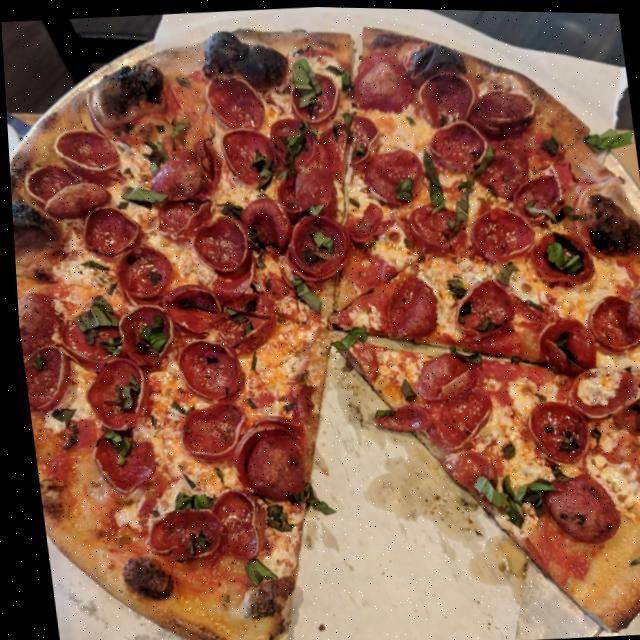basil: (459, 460, 558, 527), (62, 290, 119, 346), (521, 189, 585, 227), (274, 123, 311, 182), (92, 372, 141, 416), (287, 50, 323, 109), (438, 176, 473, 235), (416, 141, 444, 213), (126, 311, 167, 360), (97, 373, 142, 416), (89, 428, 136, 469), (293, 224, 338, 266), (578, 118, 635, 151), (91, 424, 130, 470), (457, 142, 503, 181), (279, 480, 326, 516), (280, 275, 322, 315), (117, 178, 174, 207), (165, 482, 212, 515), (539, 237, 582, 272), (232, 552, 273, 586), (47, 406, 77, 452), (137, 133, 168, 176), (324, 323, 371, 351), (482, 253, 518, 288), (380, 174, 420, 205), (173, 523, 208, 558), (244, 147, 271, 192), (255, 500, 289, 535), (219, 308, 254, 339), (443, 339, 481, 365), (463, 307, 497, 336), (213, 193, 245, 223), (534, 126, 564, 156), (91, 328, 122, 357), (437, 272, 468, 299), (166, 111, 193, 142), (238, 221, 263, 250), (392, 375, 414, 402), (24, 353, 45, 374), (371, 405, 393, 418)
pepperoni: (220, 410, 312, 508), (532, 462, 622, 546), (257, 105, 352, 175), (513, 387, 594, 466), (47, 290, 131, 366), (271, 206, 352, 284), (74, 353, 146, 436), (140, 499, 220, 567), (373, 266, 440, 347), (82, 426, 157, 498), (167, 335, 244, 405), (210, 118, 283, 190), (557, 360, 640, 423), (197, 68, 272, 136), (440, 273, 515, 340), (171, 394, 244, 462), (464, 201, 540, 266), (98, 236, 171, 303), (527, 307, 598, 375), (409, 56, 477, 126), (523, 223, 596, 288), (354, 141, 427, 206), (261, 161, 340, 221), (423, 380, 494, 446), (208, 282, 274, 349), (198, 485, 256, 561), (109, 296, 174, 363), (183, 213, 250, 277), (469, 75, 539, 136), (397, 195, 468, 255), (143, 183, 211, 244), (232, 192, 293, 260), (51, 123, 121, 182), (581, 285, 640, 355), (405, 346, 475, 403), (17, 342, 70, 416), (278, 64, 343, 123), (424, 117, 489, 175), (158, 280, 224, 337), (75, 200, 141, 257), (424, 443, 495, 493), (506, 166, 572, 219), (340, 193, 397, 248), (143, 146, 202, 199), (39, 177, 109, 220), (17, 162, 82, 205), (13, 287, 55, 352), (367, 401, 429, 438), (305, 120, 350, 168), (345, 112, 383, 164)
pizza: (0, 0, 640, 640)
